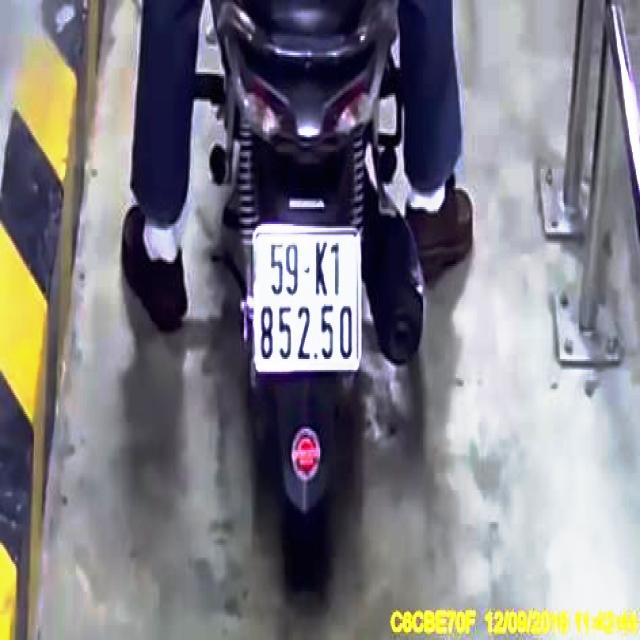license_plate: (255, 229, 360, 374)
